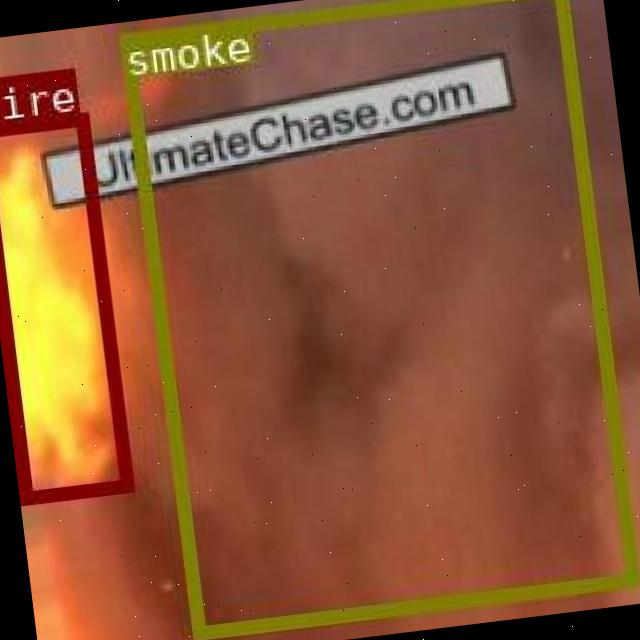fire: (0, 110, 132, 502)
smoke: (118, 0, 636, 637)
